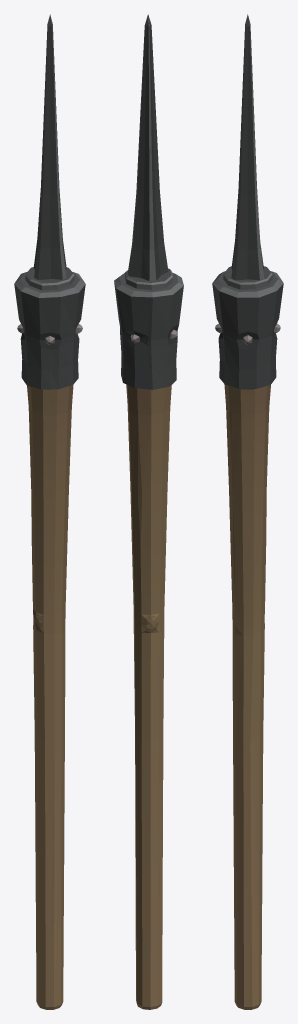
Rendered from pokeLightGodendag.glb.
The picture shows the model from 3 angles, left to right: view 1: azimuth 90°, elevation 25°; view 2: azimuth 150°, elevation 25°; view 3: azimuth 270°, elevation 25°; orthographic projection.
Visible parts, largest first — view 1: pokeLightGodendag; view 2: pokeLightGodendag; view 3: pokeLightGodendag.
Part boxes in pixels (left/top/right/bottom): pokeLightGodendag: left=14, top=14, right=85, bottom=1009; pokeLightGodendag: left=114, top=14, right=183, bottom=1009; pokeLightGodendag: left=212, top=14, right=283, bottom=1009.
Size of the model in its own units: 0.0949 by 1.53 by 0.0997.
